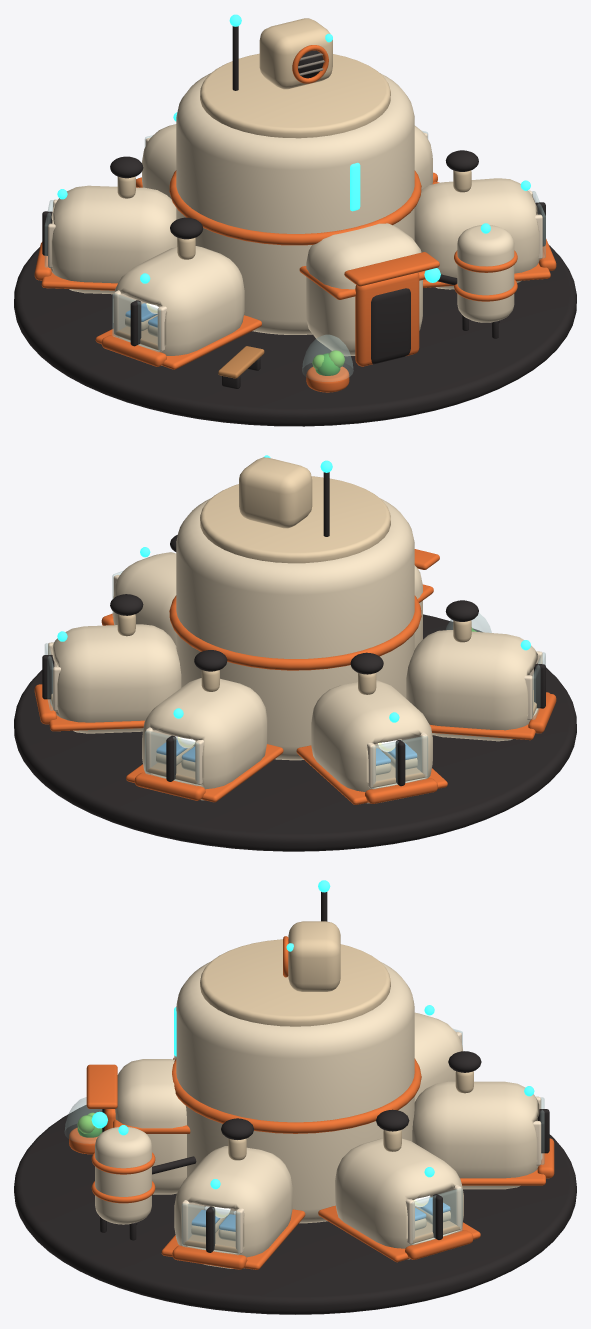
File: home-a-10.glb
3 renders of one model, top to bottom at view 1: azimuth 30°, elevation 25°; view 2: azimuth 150°, elevation 25°; view 3: azimuth 270°, elevation 25°, orthographic.
Parts seen in each view (by area): view 1: Cylinder, Cylinder.001, Cylinder.007, Cube.051, Cube.066, Cube.006, Cube, Cylinder.013, Cube.081, Torus, Cube.003, Cube.002 (+17 smaller); view 2: Cylinder, Cylinder.001, Cube.066, Cube.021, Cylinder.007, Cube.036, Cube.051, Cube.081, Cube.006, Torus, Cube.063, Cube.048 (+16 smaller); view 3: Cylinder, Cylinder.001, Cube.036, Cylinder.007, Cube.021, Cube.006, Cube, Cylinder.013, Cube.081, Torus, Cube.051, Cube.018 (+12 smaller).
Boxes of the visible parts, x1=… form: Cylinder: x1=14, y1=245, x2=576, y2=426; Cylinder.001: x1=176, y1=73, x2=414, y2=334; Cylinder.007: x1=200, y1=53, x2=390, y2=138; Cube.051: x1=51, y1=185, x2=176, y2=294; Cube.066: x1=113, y1=246, x2=244, y2=365; Cube.006: x1=414, y1=178, x2=539, y2=289; Cube: x1=306, y1=223, x2=422, y2=356; Cylinder.013: x1=457, y1=225, x2=514, y2=322; Cube.081: x1=259, y1=18, x2=332, y2=89; Torus: x1=169, y1=170, x2=421, y2=245; Cube.003: x1=371, y1=288, x2=410, y2=364; Cube.002: x1=355, y1=272, x2=419, y2=366; Cylinder: x1=14, y1=614, x2=576, y2=851; Cylinder.001: x1=176, y1=498, x2=414, y2=760; Cube.066: x1=406, y1=630, x2=537, y2=741; Cube.021: x1=50, y1=624, x2=181, y2=733; Cylinder.007: x1=200, y1=476, x2=390, y2=563; Cube.036: x1=142, y1=678, x2=267, y2=800; Cube.051: x1=311, y1=680, x2=432, y2=803; Cube.081: x1=239, y1=457, x2=312, y2=528; Cube.006: x1=113, y1=552, x2=176, y2=645; Torus: x1=169, y1=595, x2=421, y2=670; Cube.063: x1=372, y1=735, x2=428, y2=789; Cube.048: x1=144, y1=730, x2=199, y2=786; Cylinder: x1=14, y1=1105, x2=576, y2=1314; Cylinder.001: x1=176, y1=961, x2=414, y2=1223; Cube.036: x1=412, y1=1081, x2=542, y2=1189; Cylinder.007: x1=200, y1=939, x2=390, y2=1026; Cube.021: x1=335, y1=1138, x2=463, y2=1259; Cube.006: x1=174, y1=1146, x2=292, y2=1268; Cube: x1=115, y1=1059, x2=186, y2=1194; Cylinder.013: x1=95, y1=1127, x2=151, y2=1224; Cube.081: x1=288, y1=921, x2=340, y2=991; Torus: x1=172, y1=1058, x2=421, y2=1133; Cube.051: x1=414, y1=1012, x2=462, y2=1101; Cube.018: x1=181, y1=1203, x2=239, y2=1255.
Bounding box in the file's own units: 2.36 × 1.37 × 2.36.
